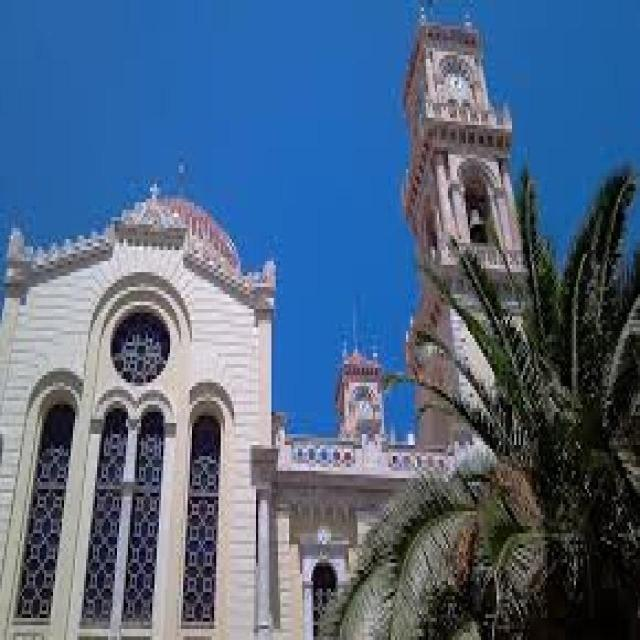Agios Minas: (1, 9, 549, 640)
